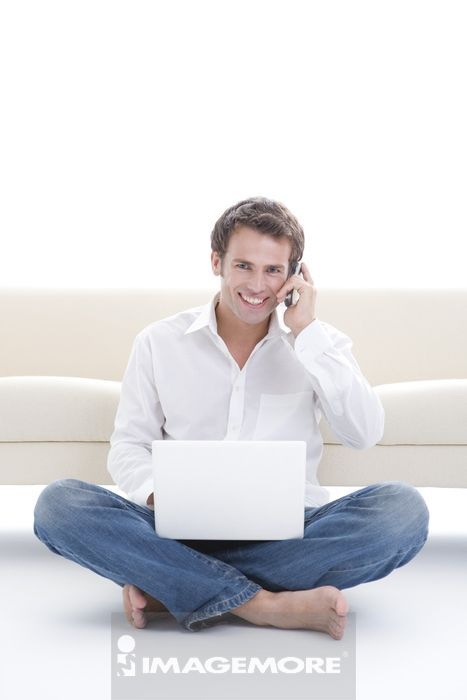phone: (284, 260, 301, 316)
talk: (227, 254, 317, 348)
